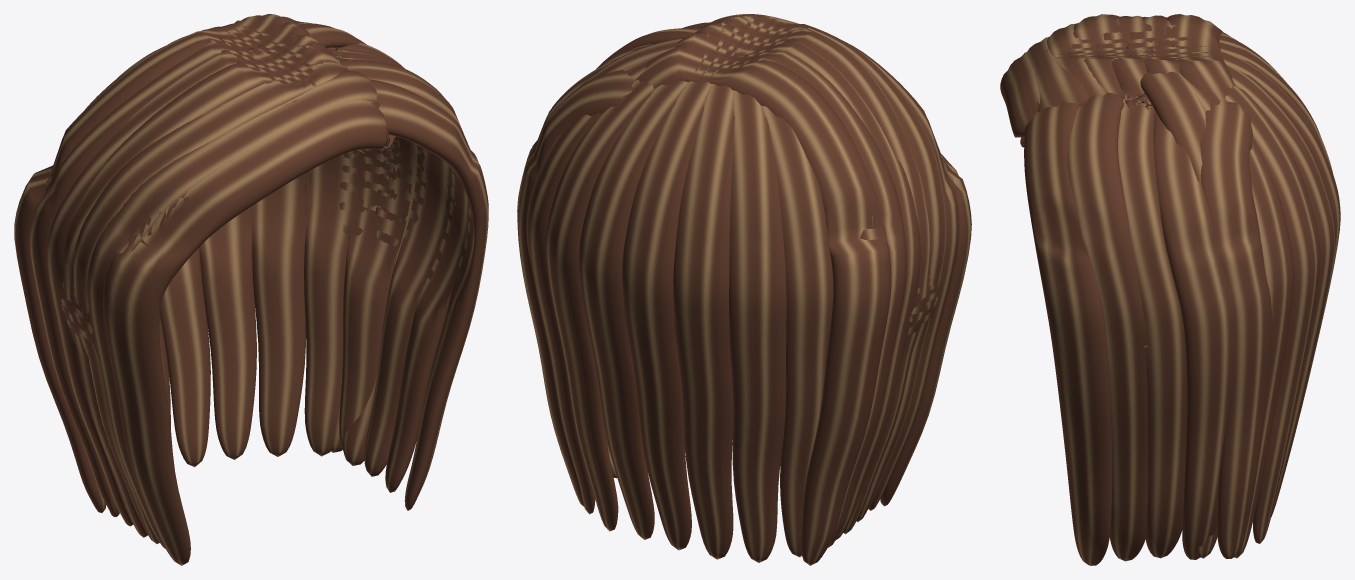
File: Highlights-f93f70ff82d5252-hair.glb
3 views of the same model, side by side, from view 1: azimuth 30°, elevation 25°; view 2: azimuth 150°, elevation 25°; view 3: azimuth 270°, elevation 25° (orthographic).
Parts seen in each view (by area): view 1: 226 hair / Hair / sculpted 0.001, 226 hair / Hair / sculpted 1.002, 226 hair / Hair / sculpted 2.001; view 2: 226 hair / Hair / sculpted 0.001, 226 hair / Hair / sculpted 2.001, 226 hair / Hair / sculpted 1.002; view 3: 226 hair / Hair / sculpted 1.002, 226 hair / Hair / sculpted 2.001, 226 hair / Hair / sculpted 0.001.
Part boxes in pixels (x1,y1,x2,y2): 226 hair / Hair / sculpted 0.001: (14, 14, 455, 565); 226 hair / Hair / sculpted 1.002: (46, 23, 488, 548); 226 hair / Hair / sculpted 2.001: (30, 21, 471, 543); 226 hair / Hair / sculpted 0.001: (545, 16, 971, 565); 226 hair / Hair / sculpted 2.001: (517, 14, 945, 557); 226 hair / Hair / sculpted 1.002: (517, 14, 959, 562); 226 hair / Hair / sculpted 1.002: (1024, 15, 1335, 565); 226 hair / Hair / sculpted 2.001: (1045, 15, 1340, 561); 226 hair / Hair / sculpted 0.001: (1000, 14, 1332, 558).
Size of the model in its own units: 1.02 by 1.19 by 0.7803.
Materials: 4 (4 with a texture image).
